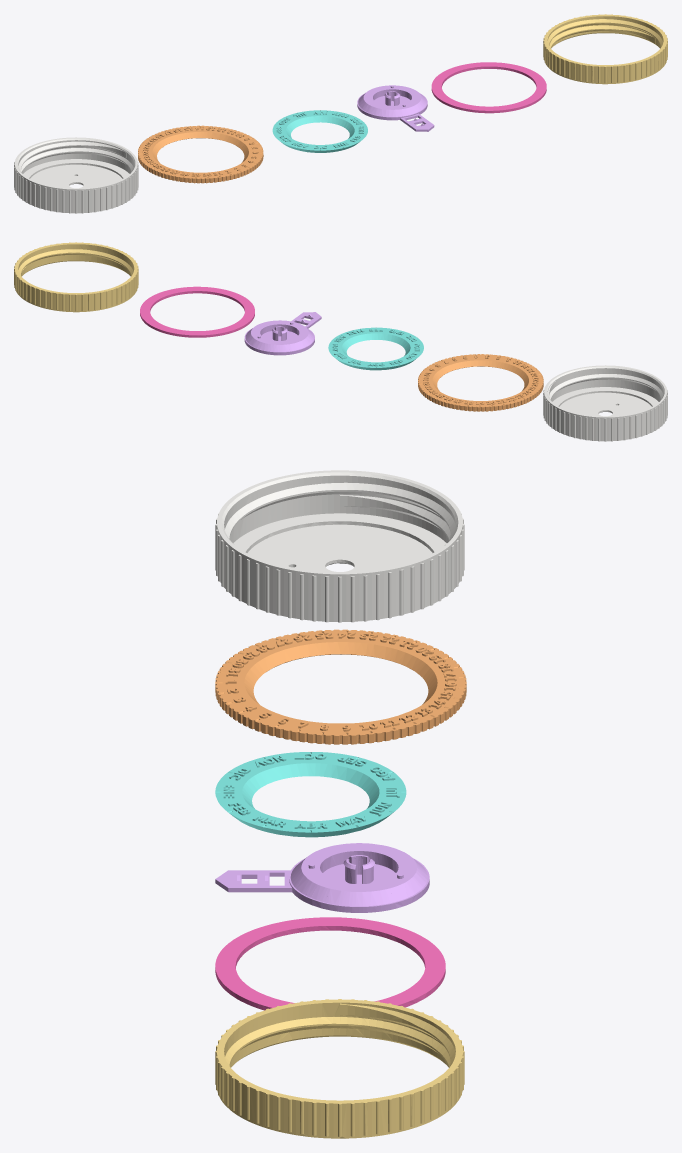
The model's file is tapa-fecha-v3.glb.
3 renders of one model, top to bottom at view 1: azimuth 30°, elevation 25°; view 2: azimuth 150°, elevation 25°; view 3: azimuth 270°, elevation 25°, orthographic. The views are drawn at different scales.
Parts seen in each view (by area): view 1: tapa_fecha_cuerpo.stl; view 2: tapa_fecha_cuerpo.stl; view 3: tapa_fecha_cuerpo.stl.
Boxes of the visible parts, x1,y1,x2,y2 form: tapa_fecha_cuerpo.stl: (14,14,667,213); tapa_fecha_cuerpo.stl: (14,242,667,441); tapa_fecha_cuerpo.stl: (215,470,466,1138).
Size of the model in its own units: 450 by 16.08 by 76.8.
Materials: 1 (1 with a texture image).
